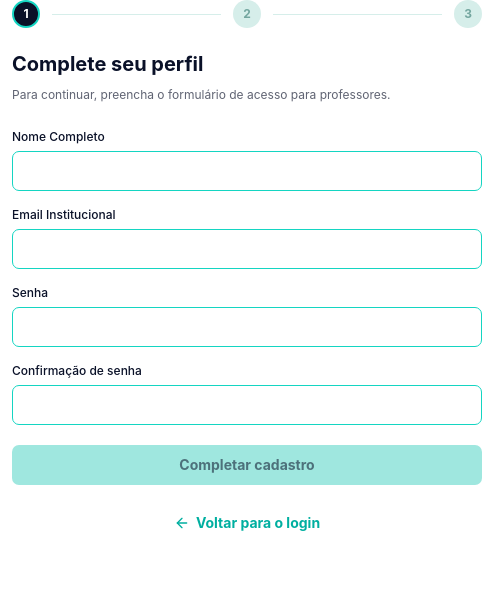
Test: RegisterProfessorForm › renderiza o formulario com todos os campos ao avancar pelas etapas
Expected: the field labelled "Email Institucional" is shown, [12,229,482,269]
Expected: the password field labelled "Senha" is shown, [12,307,482,347]
Step 1. Type "Hilmer Rodrigues Neri" into the field labelled "Nome Completo" → (247,171), box [12,151,482,191]
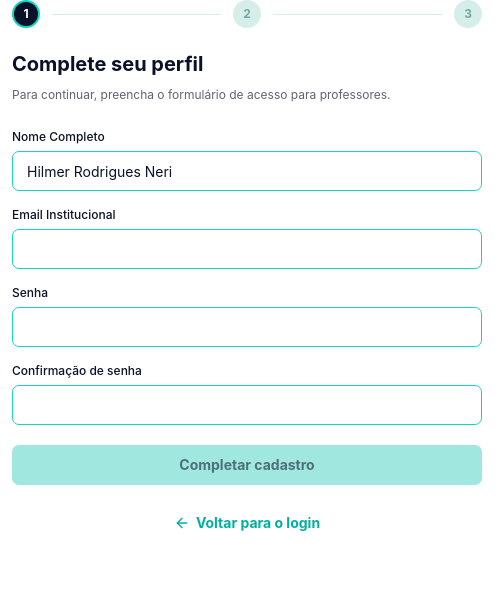
Step 2. Type "hilmer@unb.br" into the field labelled "Email Institucional" → (247,249), box [12,229,482,269]
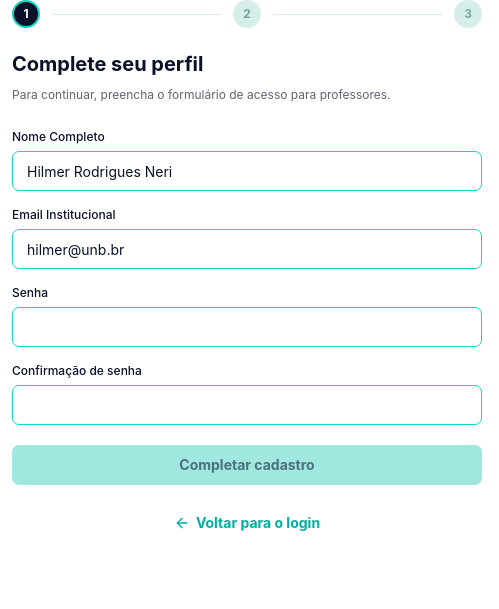
Step 3. Type "senhaValida123" into the password field labelled "Senha" → (247,327), box [12,307,482,347]
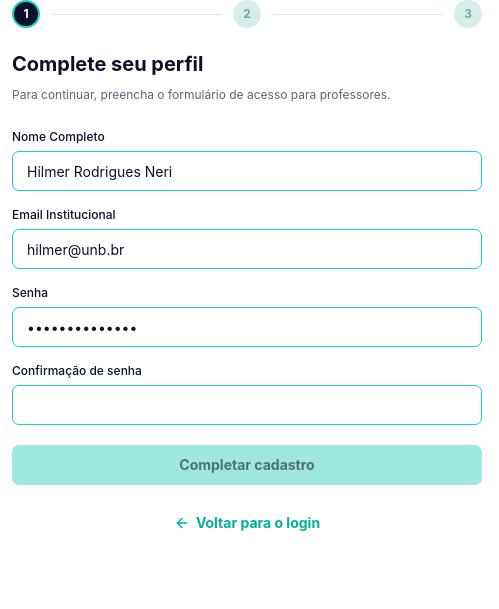
Step 4. Type "senhaValida123" into the password field labelled "Confirmação de senha" → (247,405), box [12,385,482,425]
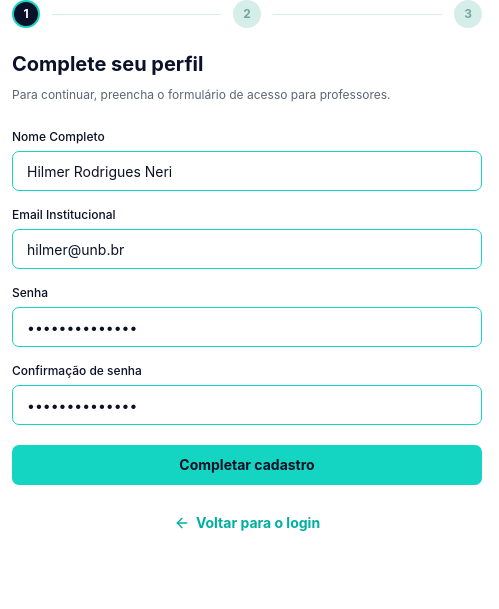
Step 5. Click the button "Completar cadastro" → (247,465), box [12,445,482,485]
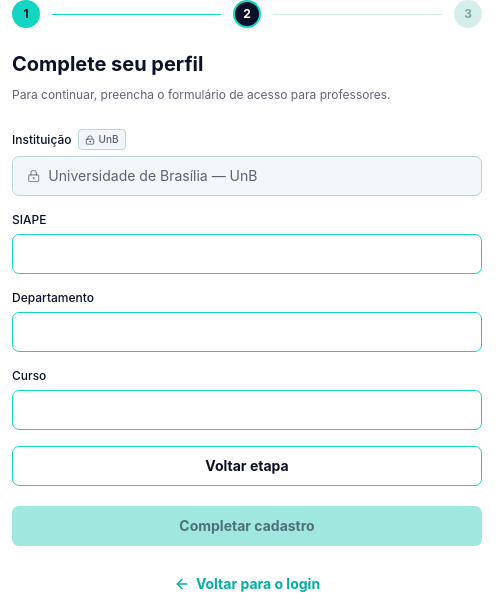
Expected: the field labelled "Instituição" is shown, [48,166,467,186]
Expected: the field labelled "SIAPE" is shown, [12,234,482,274]
Expected: the field labelled "Departamento" is shown, [12,312,482,352]
